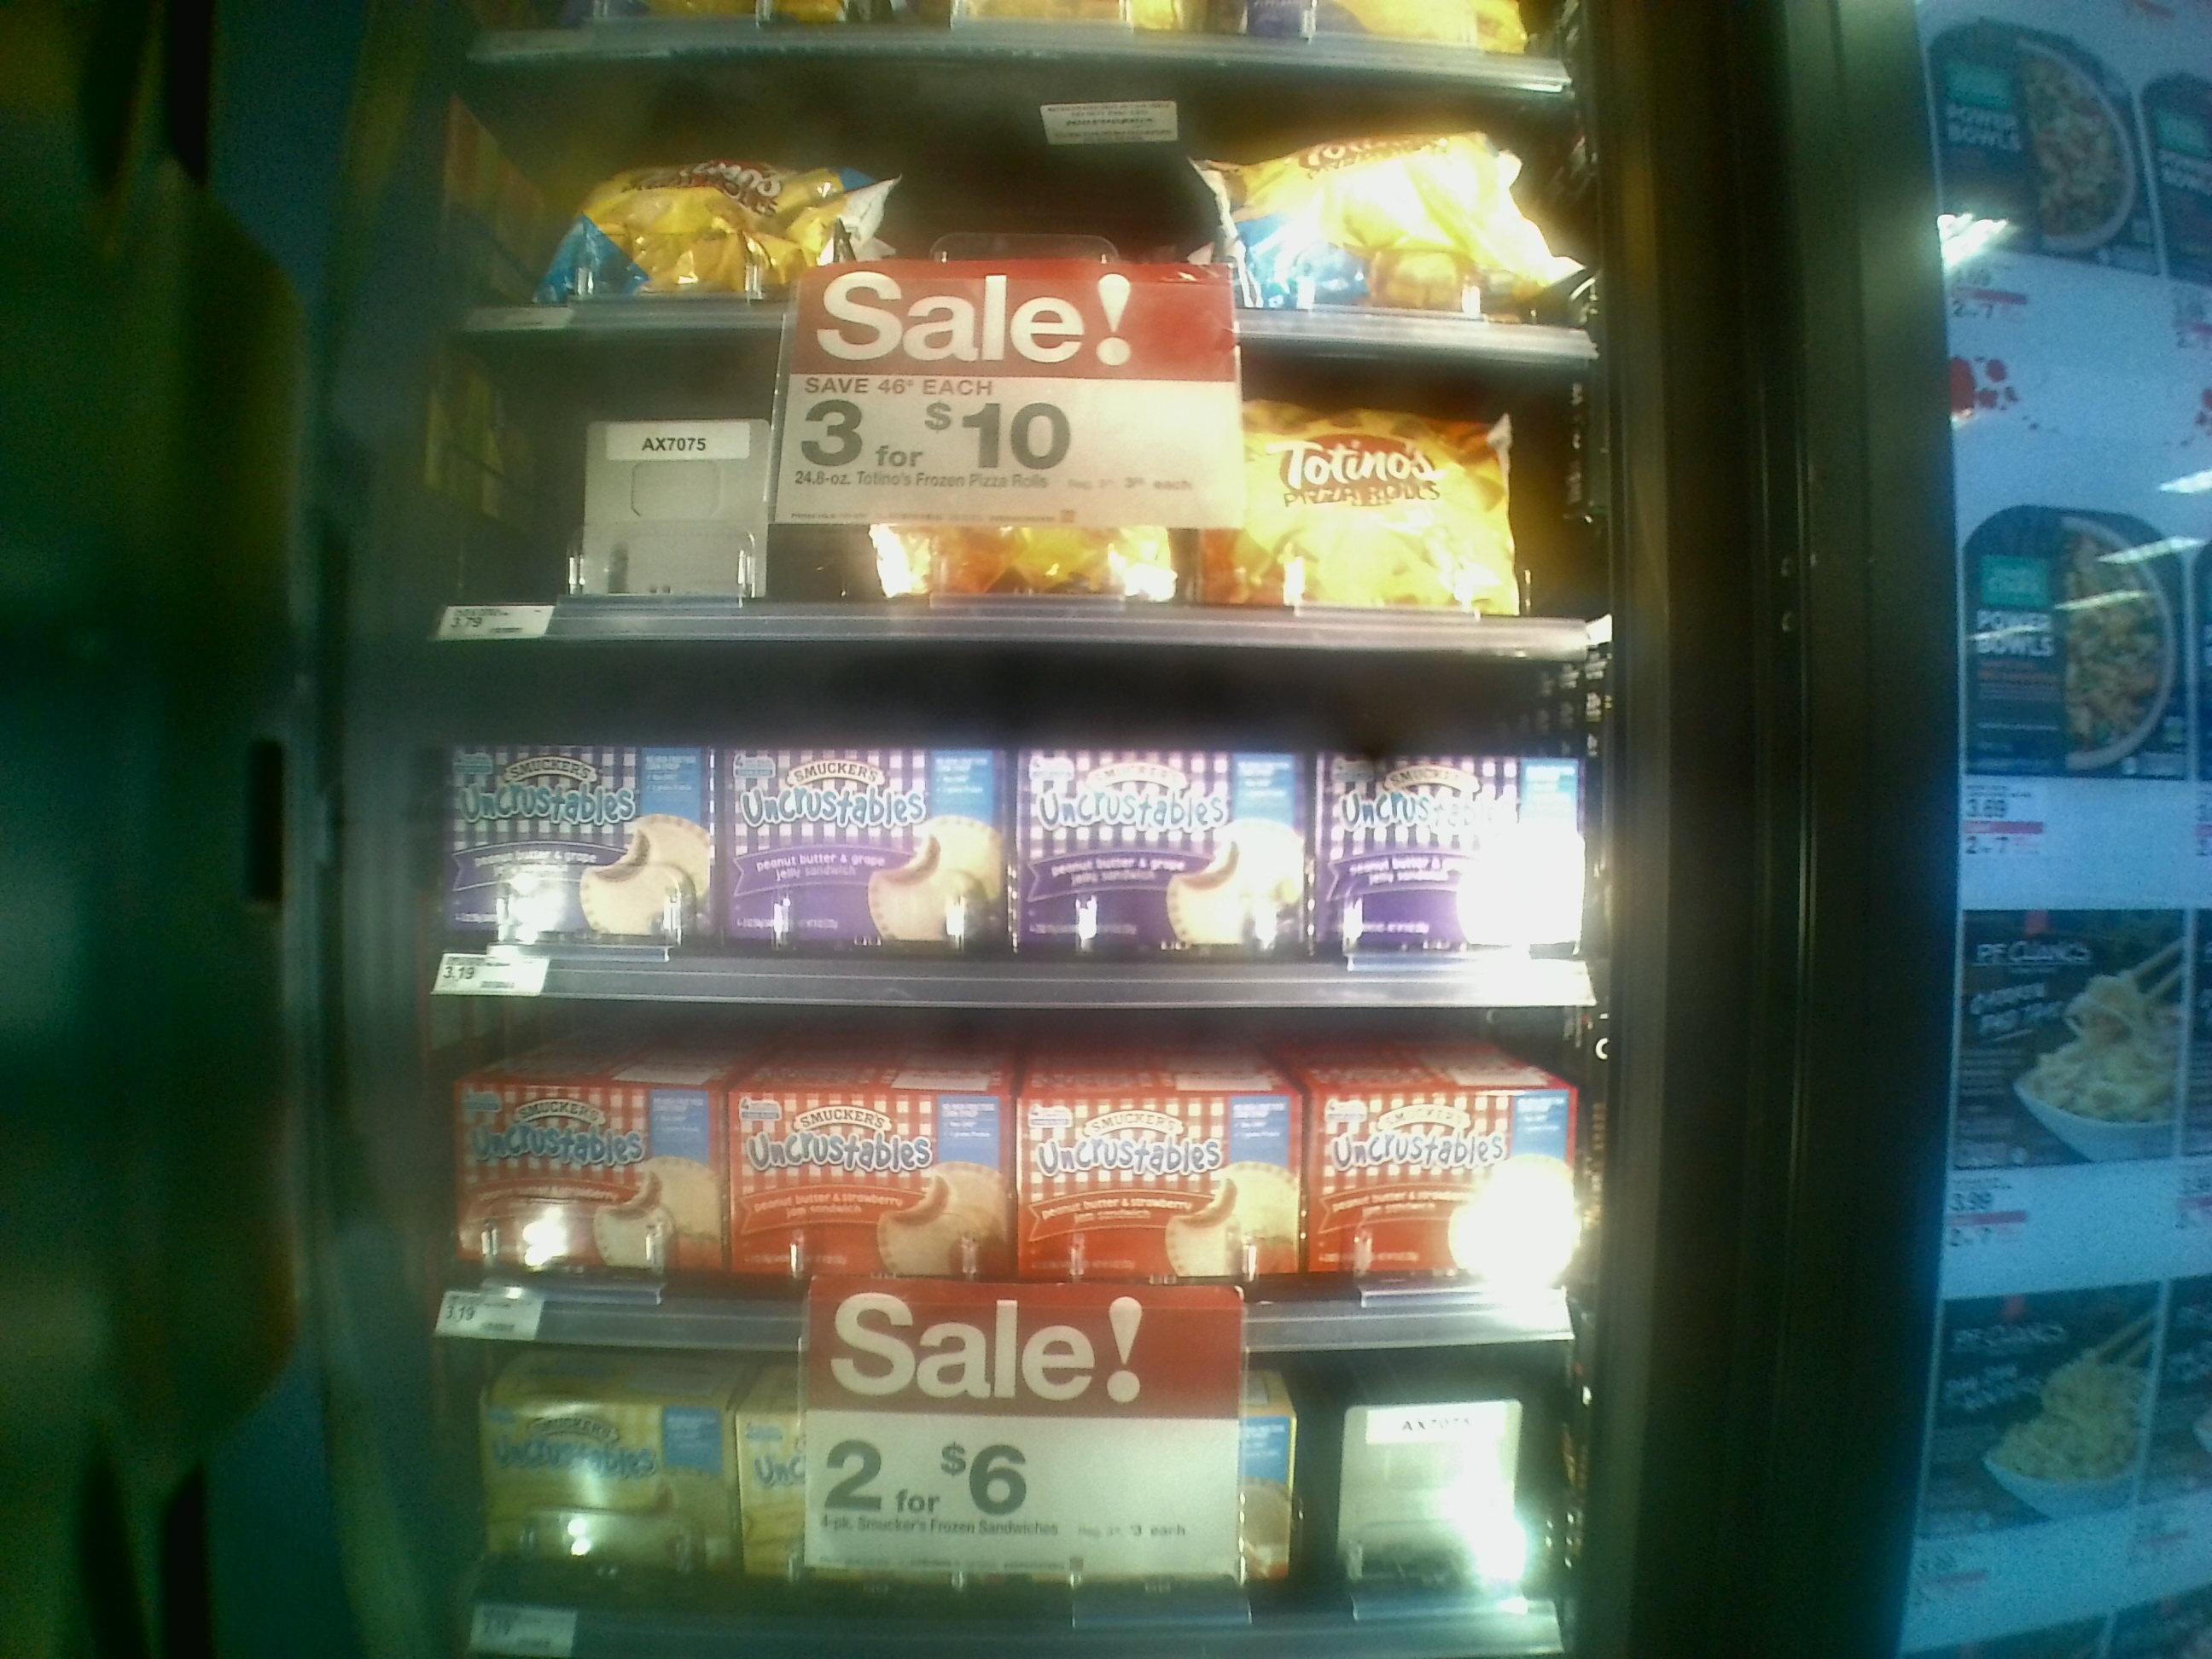shelf: (399, 972, 1583, 1342), (381, 636, 1599, 993), (397, 314, 1604, 657)
